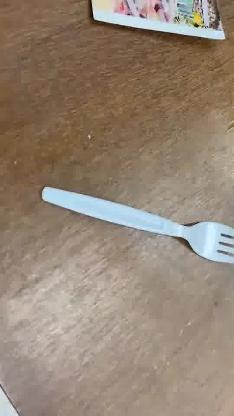Others: (40, 186, 234, 264)
